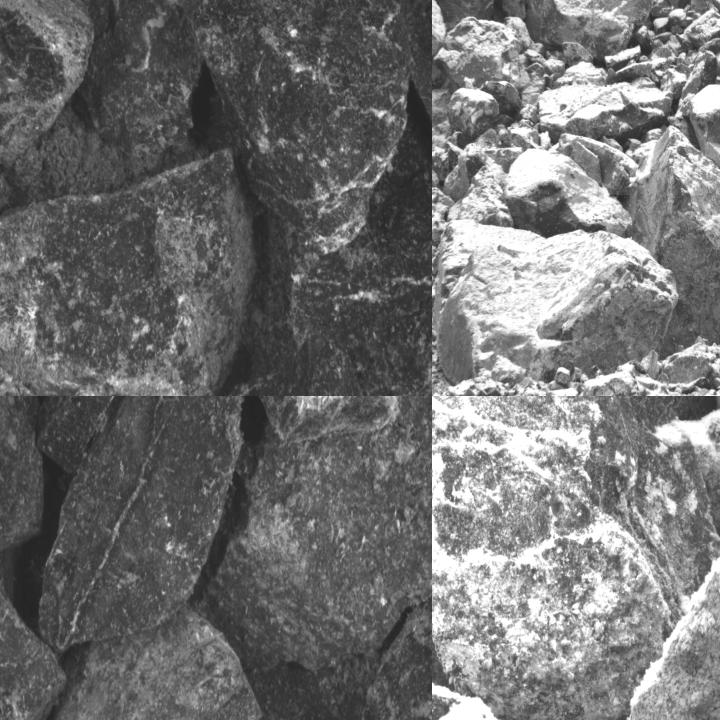stone: (432, 396, 719, 719), (177, 396, 431, 676), (0, 154, 259, 395), (193, 0, 410, 252), (36, 396, 244, 656), (264, 130, 431, 395), (8, 0, 206, 200), (441, 228, 678, 382), (26, 603, 263, 719), (614, 495, 719, 719), (636, 123, 719, 348), (0, 0, 98, 162), (0, 553, 67, 719), (506, 147, 634, 229), (0, 396, 45, 592), (37, 396, 142, 474), (538, 80, 674, 137), (537, 0, 655, 57), (436, 15, 523, 88), (401, 0, 431, 180), (530, 0, 646, 25), (686, 84, 719, 170), (448, 89, 496, 139), (432, 89, 451, 154), (560, 41, 596, 63)
